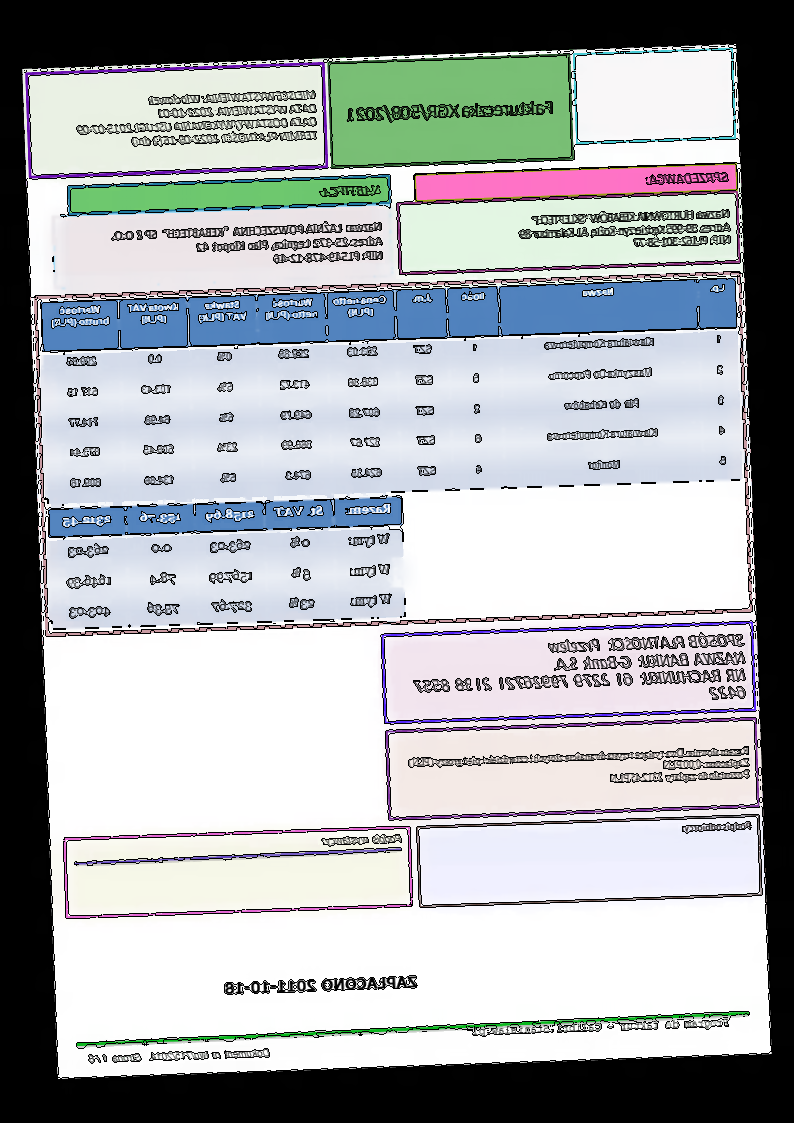Table: (41, 275, 745, 505), (49, 493, 409, 632)
TextBox: (407, 628, 750, 717), (403, 742, 755, 798), (73, 86, 323, 154), (106, 216, 387, 276), (514, 204, 736, 256), (345, 94, 560, 128), (469, 1013, 733, 1040), (220, 968, 425, 1000), (84, 1042, 275, 1068), (320, 827, 406, 854), (644, 167, 734, 189), (679, 817, 758, 838), (319, 180, 386, 200)
